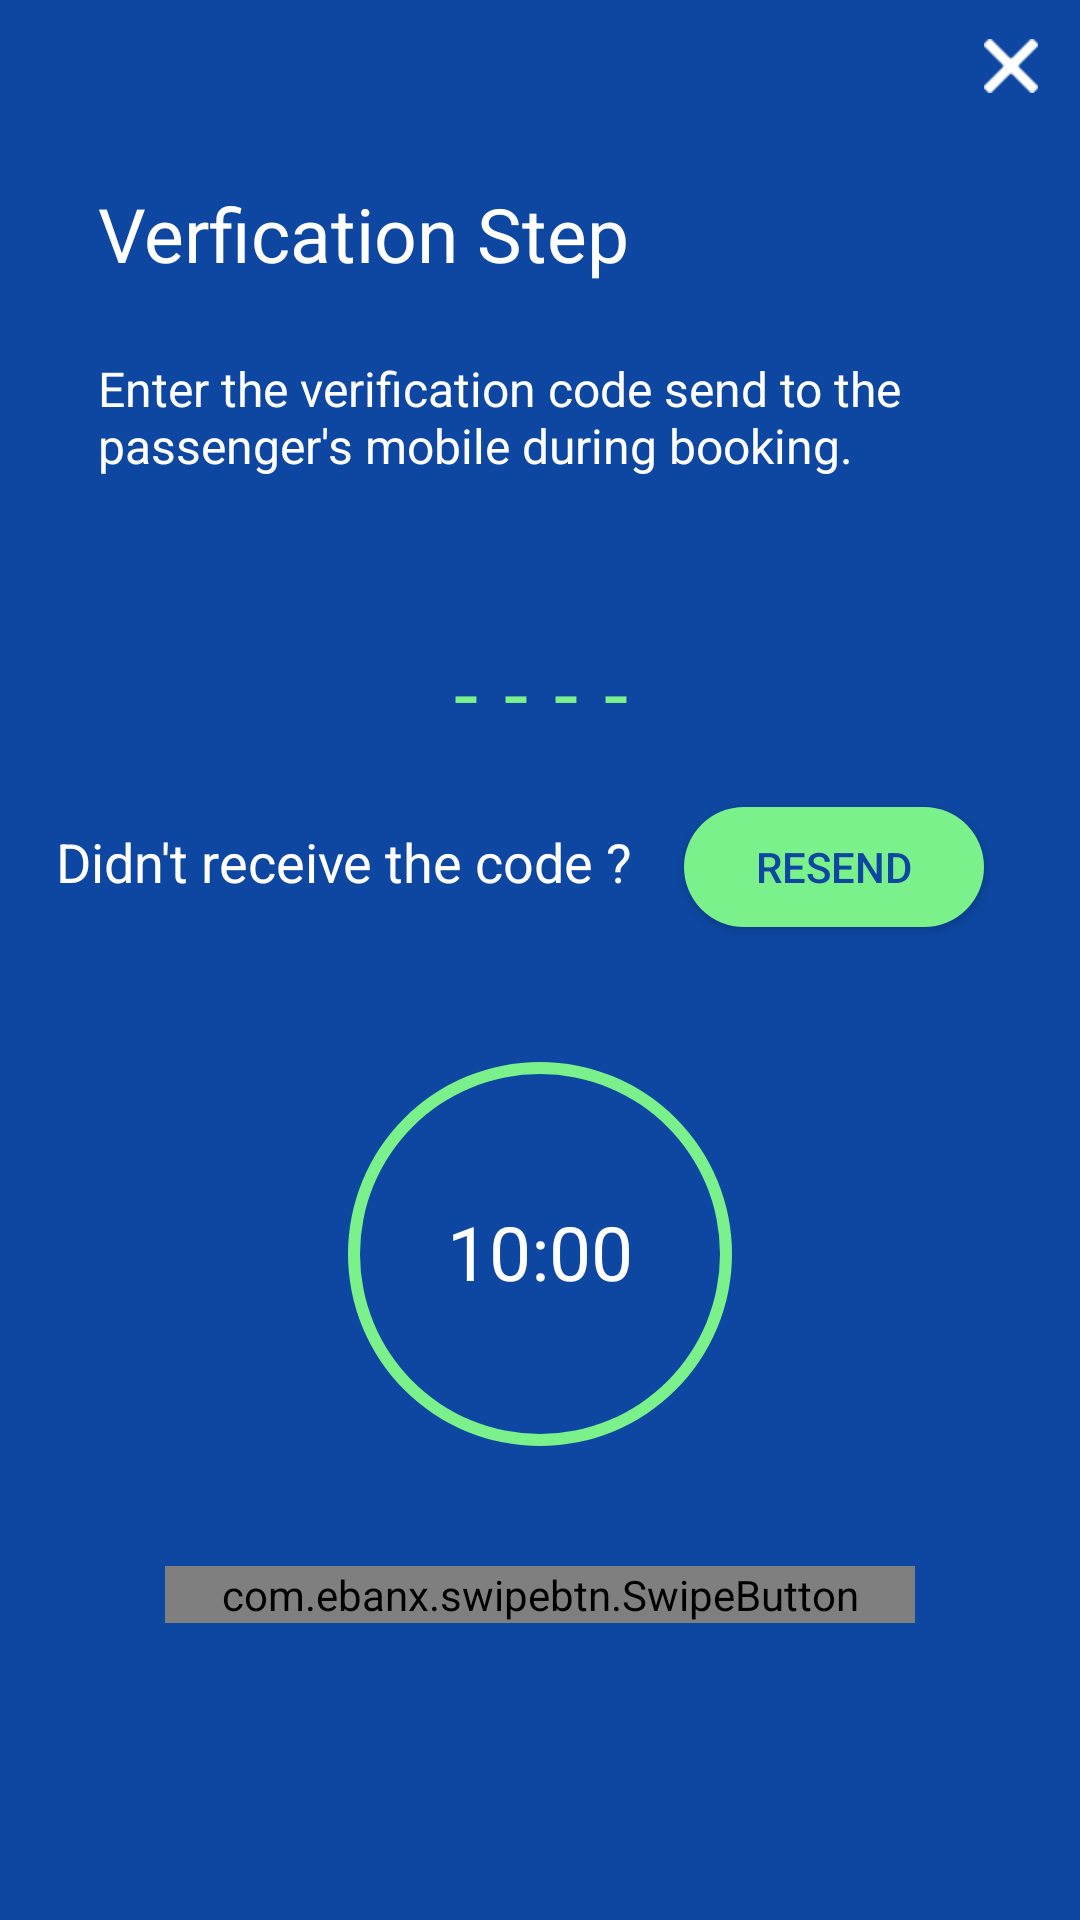

Where to tap for icons on this 1080px×1920px app screen, as [x,y]:
closing: [1011,66]
